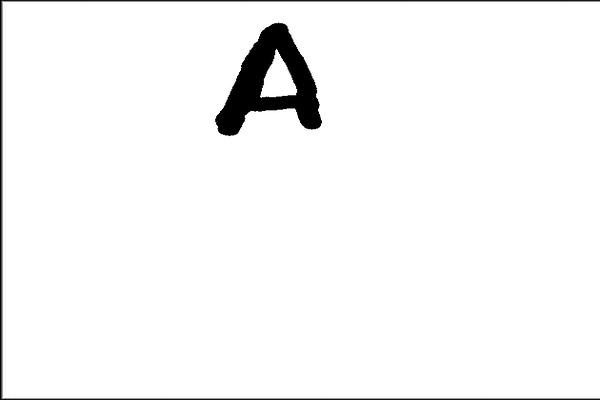A: (201, 11, 330, 144)
